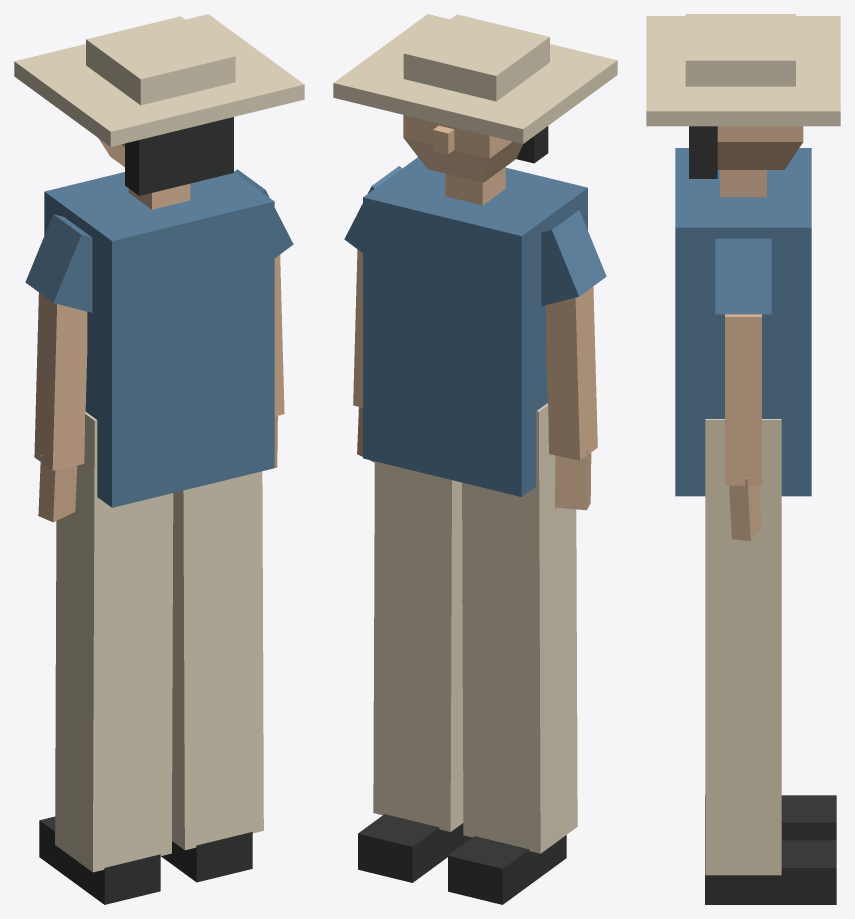
File: pedestrian_04.glb
3 views of the same model, side by side, from view 1: azimuth 30°, elevation 25°; view 2: azimuth 150°, elevation 25°; view 3: azimuth 270°, elevation 25° (orthographic). The views are drawn at different scales.
Parts seen in each view (by area): view 1: pedestrian_04 crowd_trousers, pedestrian_04 crowd_shirt, pedestrian_04 crowd_accessory, pedestrian_04 crowd_rubber, pedestrian_04 crowd_skin; view 2: pedestrian_04 crowd_trousers, pedestrian_04 crowd_shirt, pedestrian_04 crowd_accessory, pedestrian_04 crowd_skin, pedestrian_04 crowd_rubber; view 3: pedestrian_04 crowd_shirt, pedestrian_04 crowd_trousers, pedestrian_04 crowd_accessory, pedestrian_04 crowd_skin, pedestrian_04 crowd_rubber.
Part boxes in pixels (x1,y1,x2,y2): pedestrian_04 crowd_trousers: (55, 412, 263, 872); pedestrian_04 crowd_shirt: (25, 169, 293, 507); pedestrian_04 crowd_accessory: (14, 14, 304, 146); pedestrian_04 crowd_rubber: (39, 117, 252, 904); pedestrian_04 crowd_skin: (34, 138, 284, 522); pedestrian_04 crowd_trousers: (373, 403, 577, 853); pedestrian_04 crowd_shirt: (344, 157, 606, 496); pedestrian_04 crowd_accessory: (333, 14, 617, 143); pedestrian_04 crowd_skin: (353, 115, 597, 510); pedestrian_04 crowd_rubber: (358, 126, 566, 904); pedestrian_04 crowd_shirt: (675, 148, 811, 496); pedestrian_04 crowd_trousers: (705, 419, 781, 875); pedestrian_04 crowd_accessory: (646, 14, 840, 126); pedestrian_04 crowd_skin: (717, 126, 803, 540); pedestrian_04 crowd_rubber: (689, 126, 836, 904).
Size of the model in its own units: 0.5004 by 1.64 by 0.3478.
